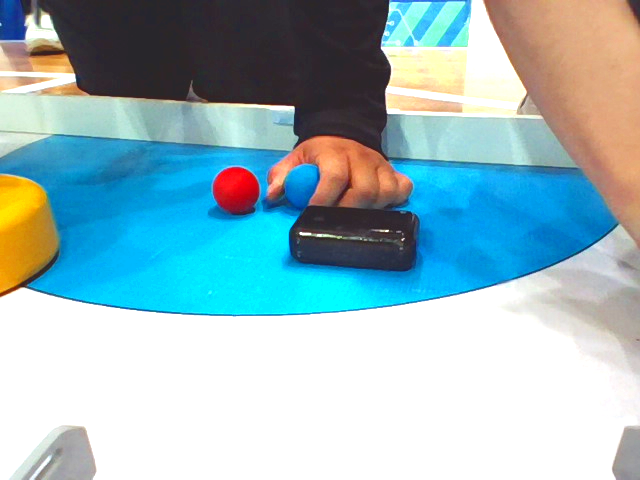black: (269, 207, 434, 278)
blue: (269, 155, 341, 225)
red: (202, 156, 264, 221)
yellow: (1, 160, 71, 312)
